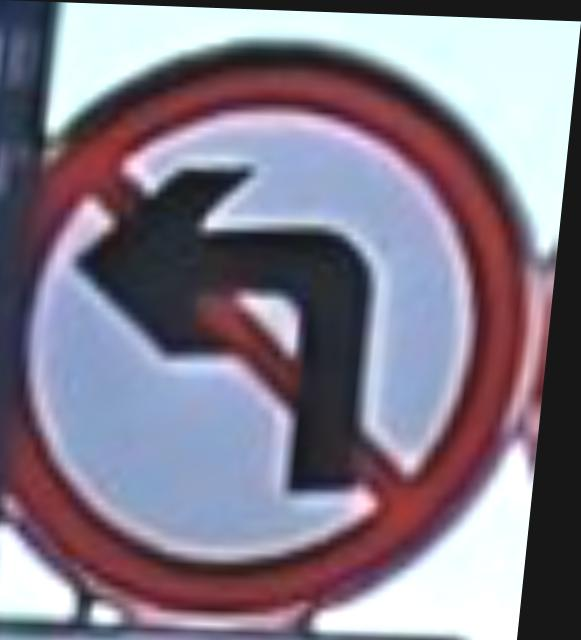not_turn_left: (0, 19, 554, 616)
